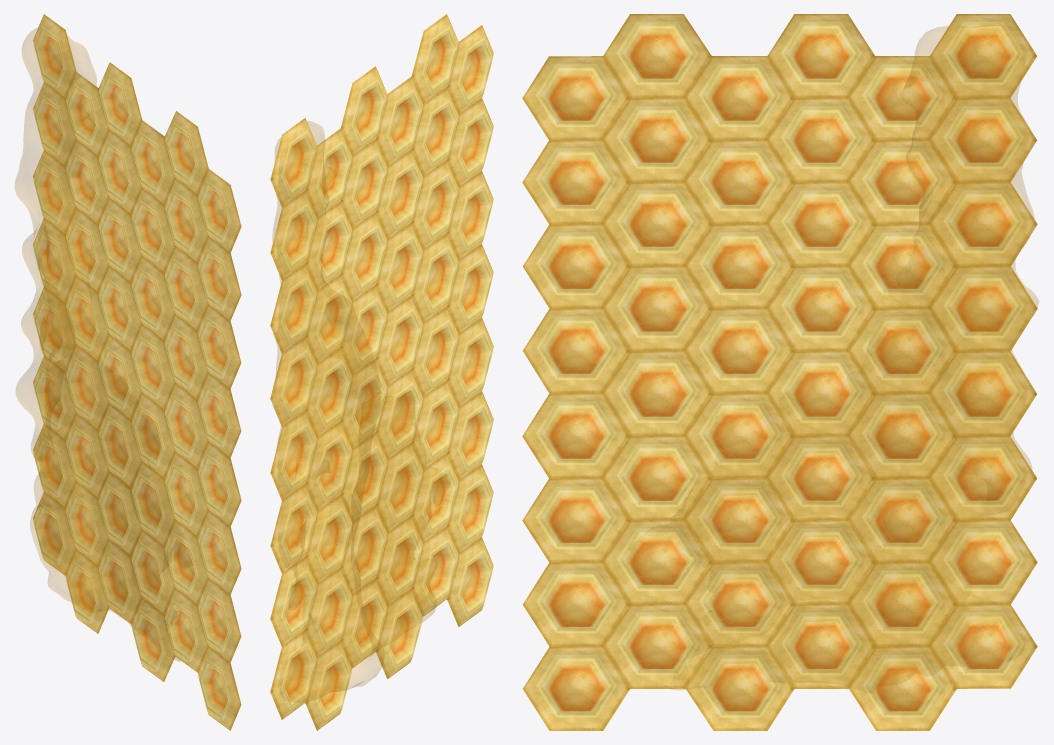
Rendered from honeycomb_withHoney_03.glb.
The picture shows the model from 3 angles, left to right: view 1: azimuth 30°, elevation 25°; view 2: azimuth 150°, elevation 25°; view 3: azimuth 270°, elevation 25°; orthographic projection. The views are drawn at different scales.
Parts seen in each view (by area): view 1: honeycomb, merge1.005; view 2: honeycomb, merge1.005; view 3: honeycomb, merge1.005.
Part boxes in pixels (left/top/right/bottom): honeycomb: left=33, top=14, right=241, bottom=730; merge1.005: left=15, top=27, right=192, bottom=661; honeycomb: left=270, top=14, right=493, bottom=730; merge1.005: left=272, top=121, right=450, bottom=703; honeycomb: left=522, top=14, right=1037, bottom=730; merge1.005: left=628, top=25, right=1038, bottom=689.
Size of the model in its own units: 6.93 by 62.42 by 40.82.
Materials: 2 (1 with a texture image).
